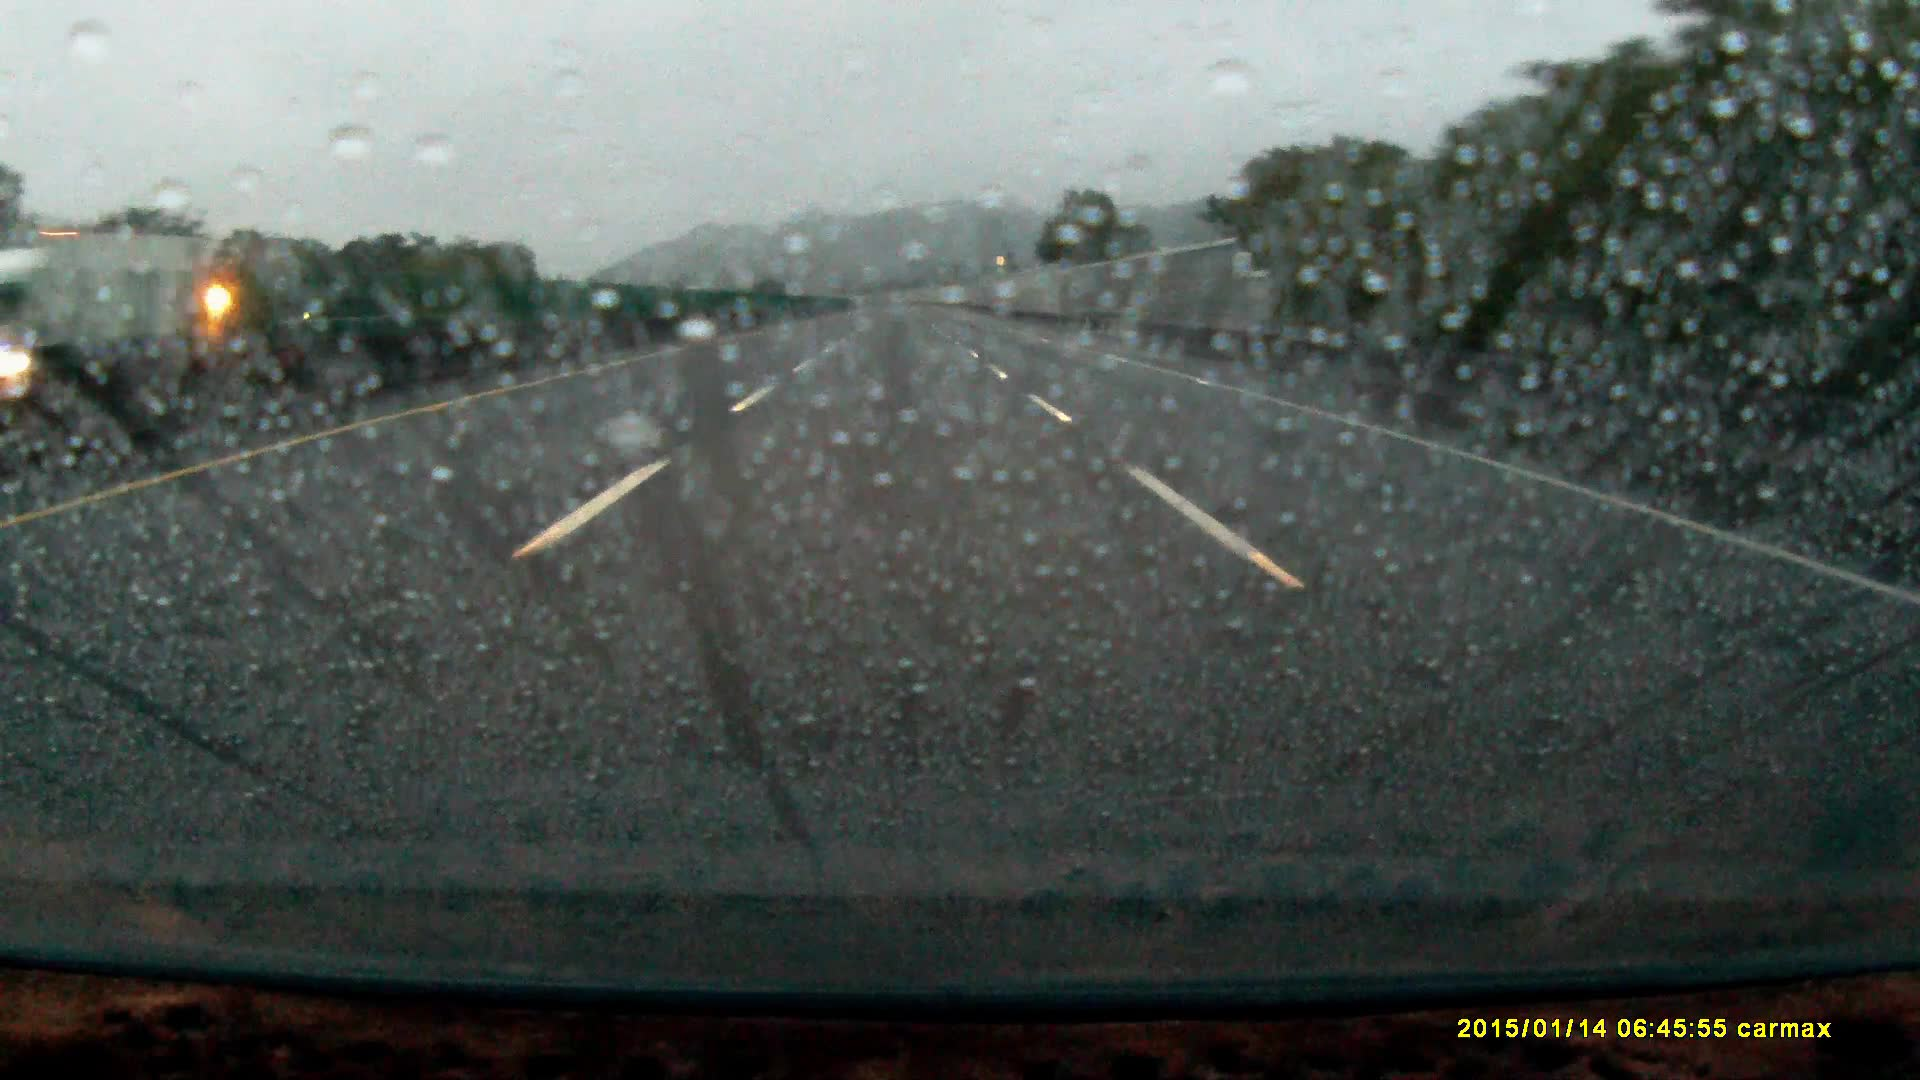vehicle: (4, 223, 198, 382)
